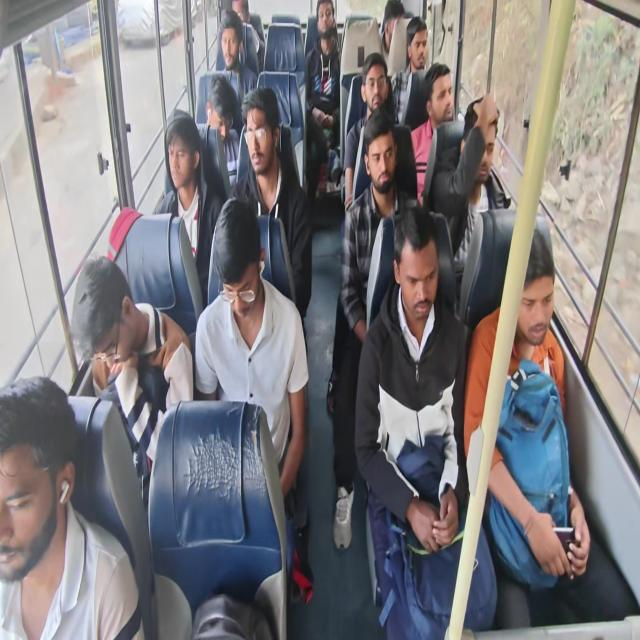person: (353, 203, 498, 638), (193, 197, 311, 599), (463, 226, 591, 592), (326, 108, 419, 551), (0, 375, 145, 639), (70, 254, 193, 507), (228, 86, 312, 341), (430, 92, 510, 269), (154, 114, 224, 308), (342, 52, 396, 212), (304, 0, 341, 198), (410, 62, 454, 205), (389, 16, 428, 128), (204, 73, 240, 189), (216, 9, 257, 105), (231, 0, 265, 74), (380, 0, 404, 66)
